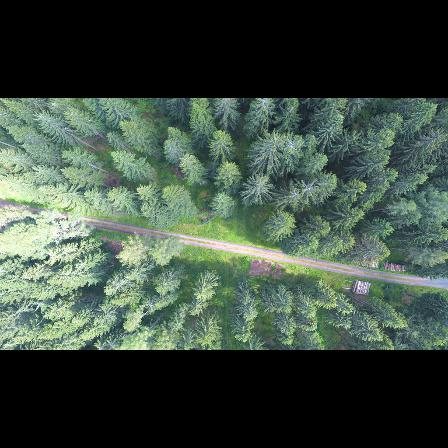Sick: (280, 135, 304, 157), (140, 297, 160, 317), (301, 181, 321, 196), (288, 187, 302, 203)
